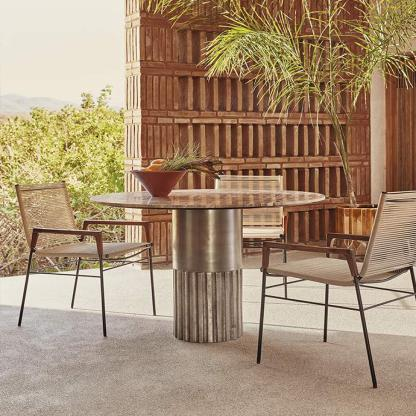table: (82, 183, 328, 346)
